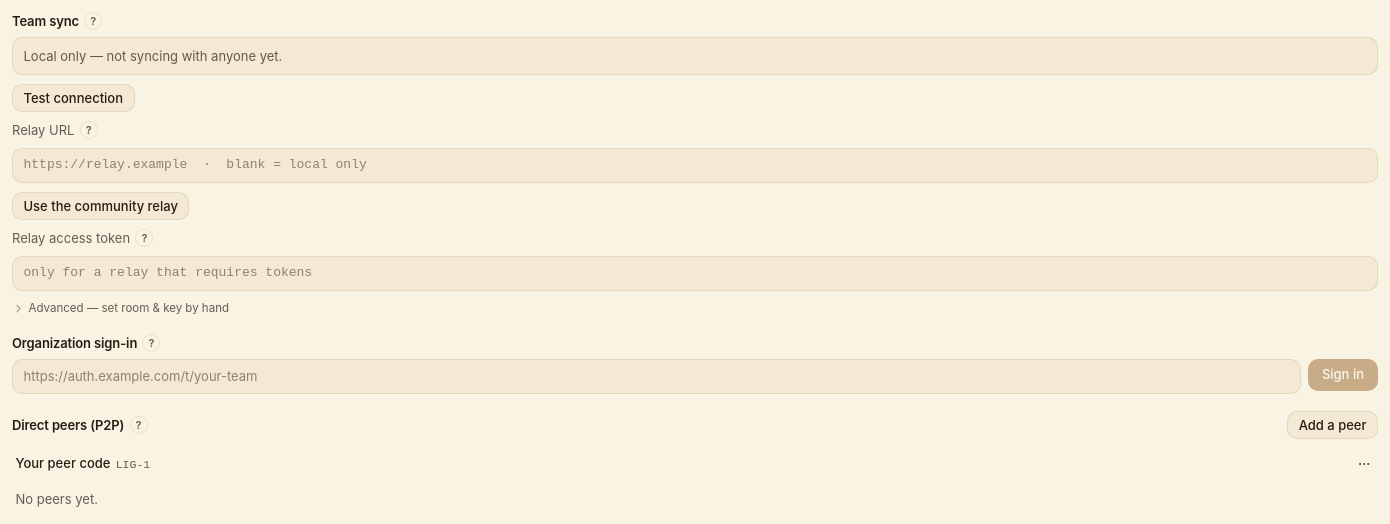
Team sync relay URL › has no team-member admin panel, and fills in the community relay on request
Click the button "Use the community relay" at (101, 206), box [12,192,189,220]
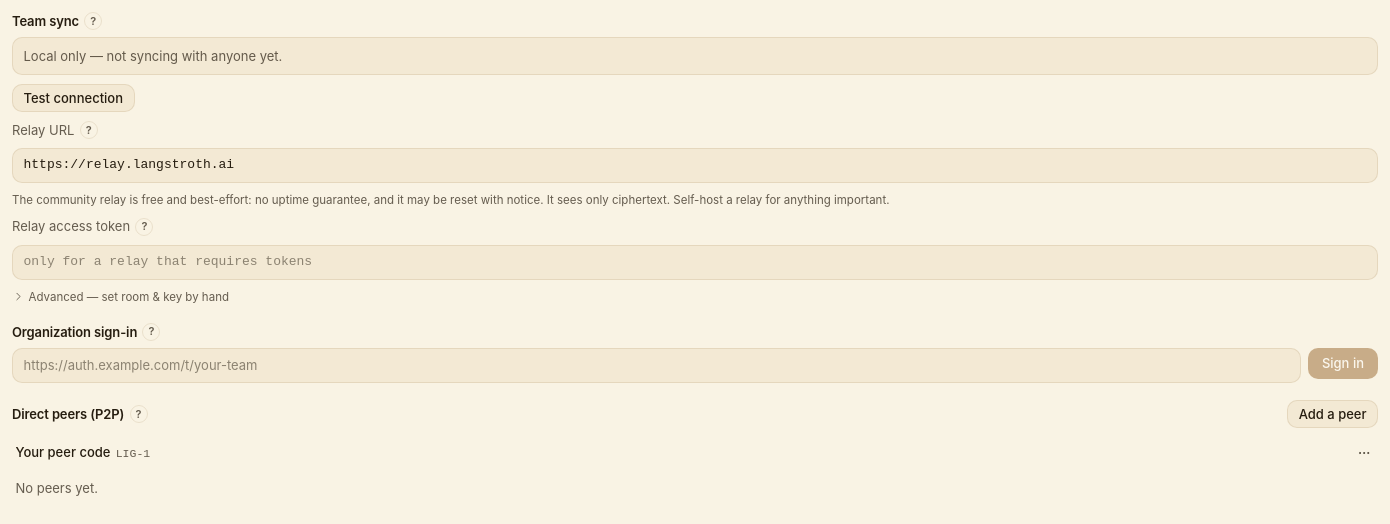
Check: the text "best-effort" is shown, box [12,193,890,207]
Check: the button "Use the community relay" is gone
